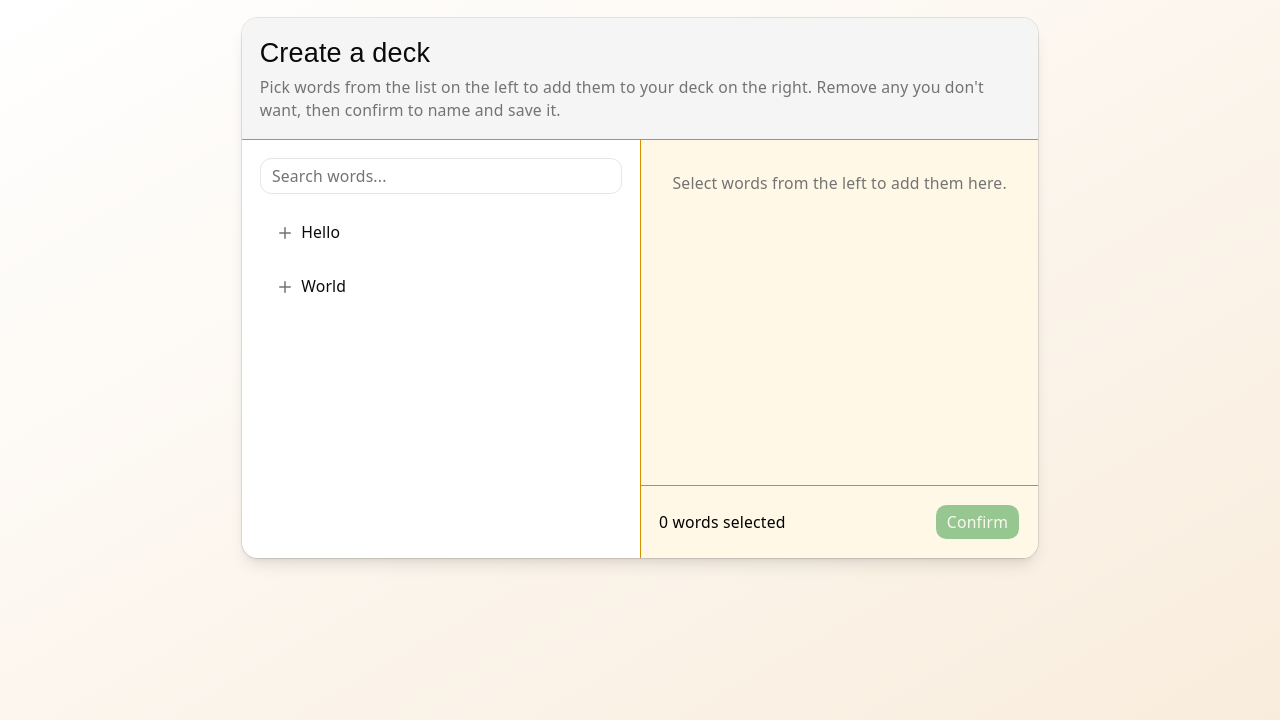
CreateDeckPage › removes a selected word and returns it to the available list
Click the button "Hello" at (321, 232), box [264, 208, 618, 258]
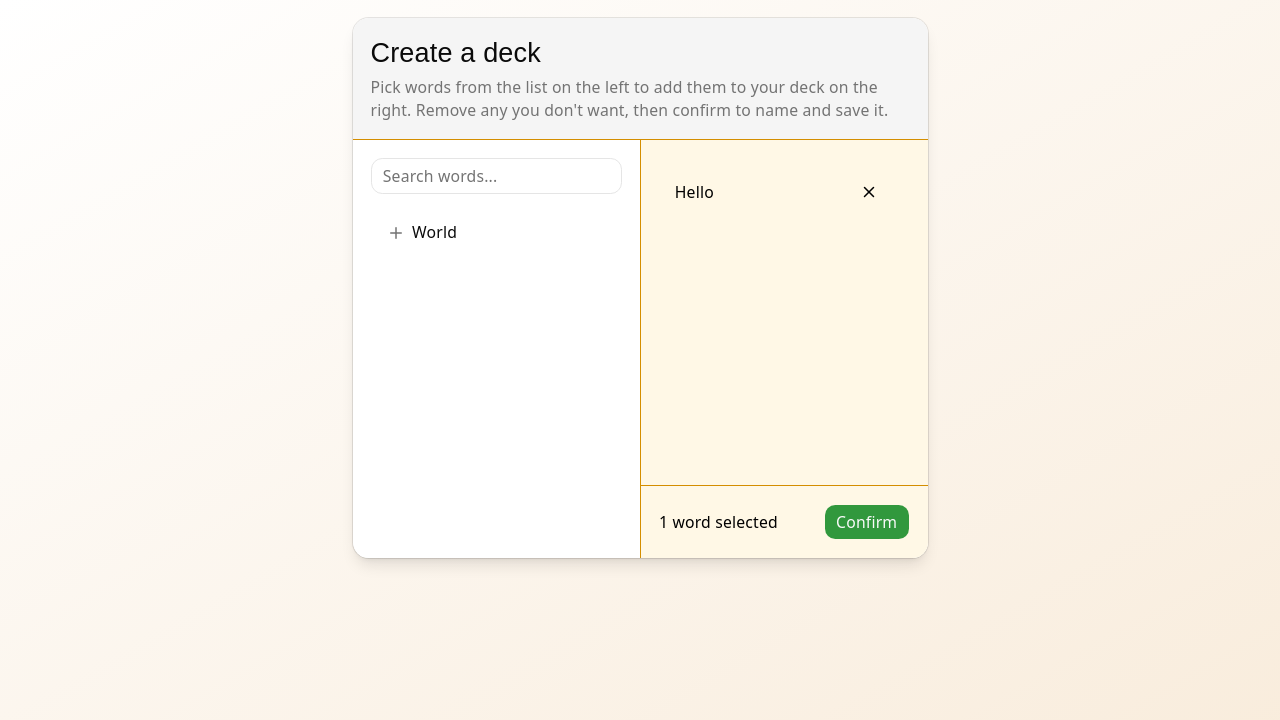
Click the button named "remove hello" at (869, 192), box [844, 168, 894, 217]
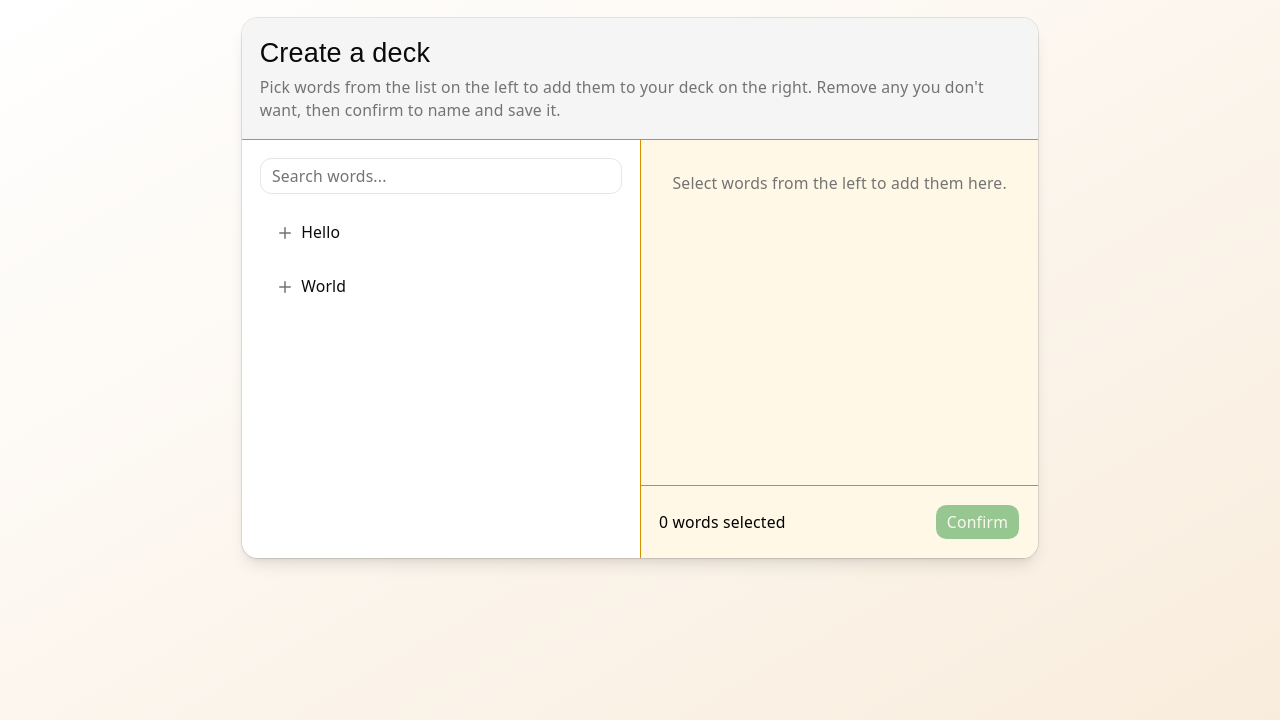
expect the button "Hello" is shown: met, box [264, 208, 618, 258]
expect the message reads "0 words selected": met, box [659, 511, 786, 533]
